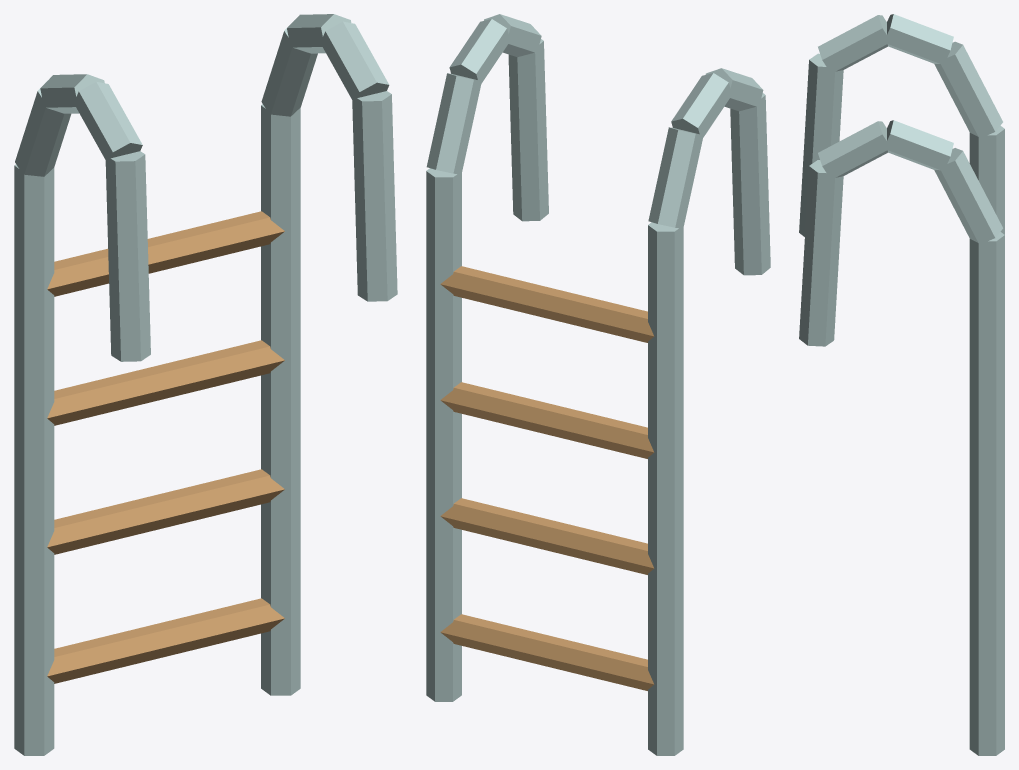
File: dock_ladder_quiet_lake_fishing_22402.glb
3 views of the same model, side by side, from view 1: azimuth 30°, elevation 25°; view 2: azimuth 150°, elevation 25°; view 3: azimuth 270°, elevation 25° (orthographic). The views are drawn at different scales.
Visible parts, largest first — view 1: silver, wood; view 2: silver, wood; view 3: silver.
Boxes of the visible parts, x1,y1,x2,y2 form: silver: (14,14,397,755); wood: (47,211,284,683); silver: (426,14,770,755); wood: (440,266,654,690); silver: (799,14,1004,755).
Size of the model in its own units: 0.5606 by 1.38 by 0.4099.
